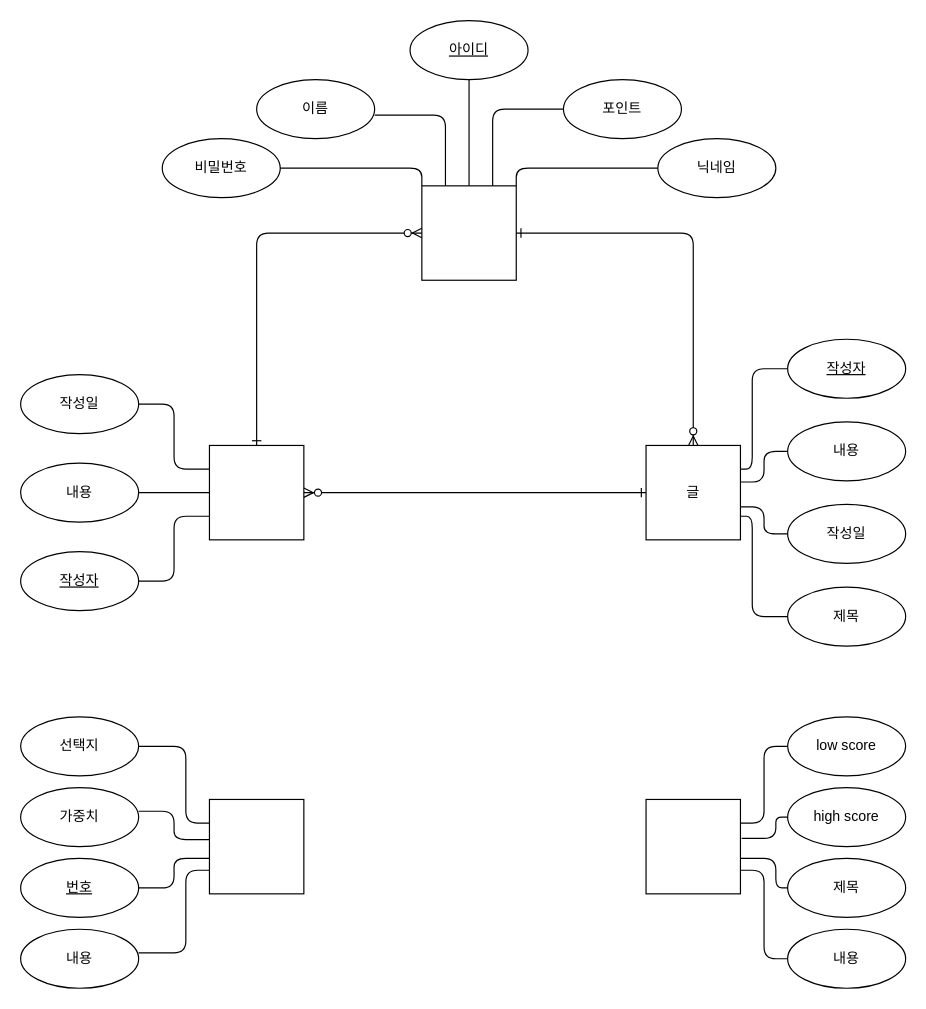
Some shapes in this 926 by 1009 pixel diagram are drawn without their labels. Here are the shapes that lost their labels. From the top down, the centre of each, then its label:
(x=468, y=232): 회원
(x=256, y=492): 댓글
(x=256, y=846): 심리테스트 문항
(x=692, y=846): 심리테스트 결과
